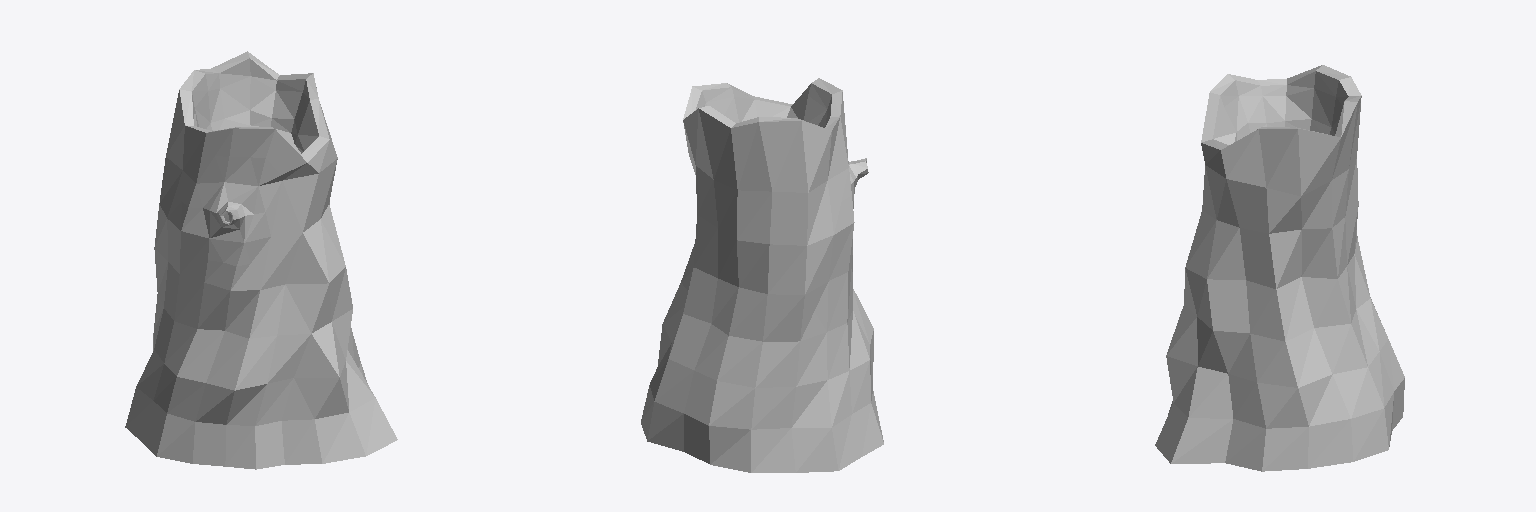
The model's file is SM_Stump.obj.
3 views of the same model, side by side, from view 1: azimuth 30°, elevation 25°; view 2: azimuth 150°, elevation 25°; view 3: azimuth 270°, elevation 25° (orthographic).
Visible parts, largest first — view 1: Tree1 SM_PineTree; view 2: Tree1 SM_PineTree; view 3: Tree1 SM_PineTree.
Part boxes in pixels (x1,y1,x2,y2): Tree1 SM_PineTree: (125, 51, 397, 469); Tree1 SM_PineTree: (641, 78, 883, 472); Tree1 SM_PineTree: (1155, 65, 1404, 471).
Bounding box in the file's own units: 103 × 154 × 103.